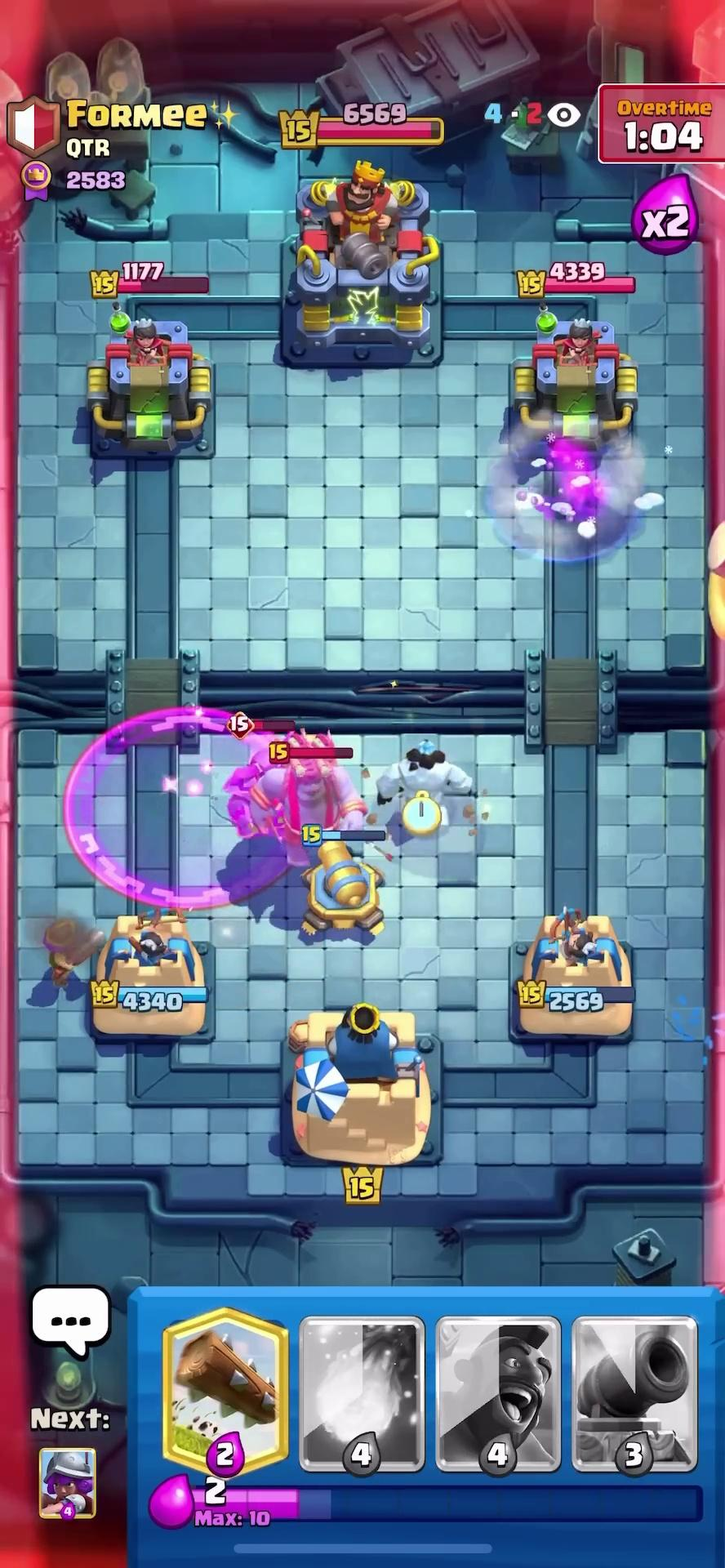cannon: (282, 819, 406, 966)
ice_golem: (390, 737, 471, 831)
musketeer: (18, 898, 114, 992)
